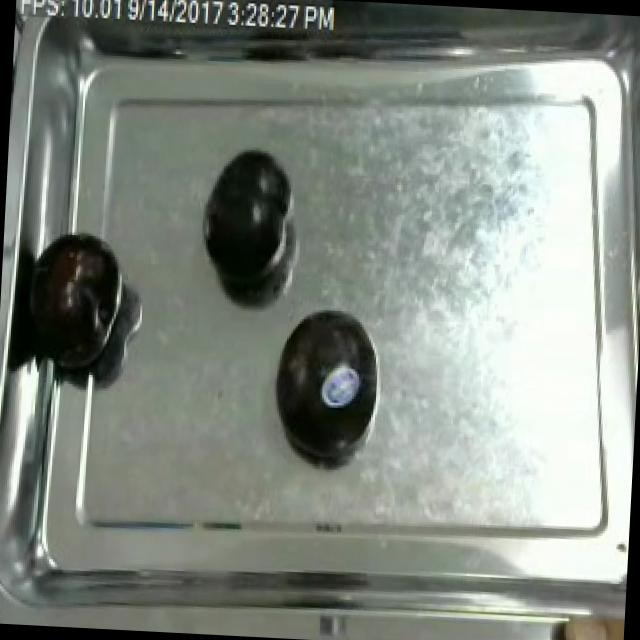Fruit: (265, 300, 387, 462), (193, 142, 295, 296), (29, 226, 130, 380), (553, 598, 626, 640)
